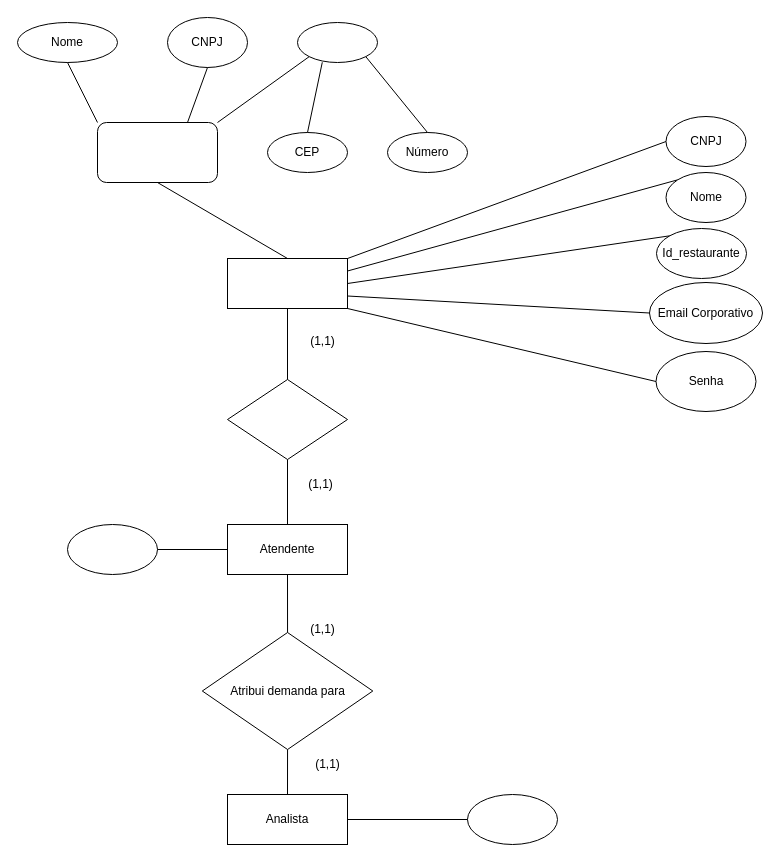
Image size: 780x862. Some labels were removed from this diagram. The shapes that lost their labels are listed below. From the top down, each one's centre as x and y in pixels, then its label:
(x=337, y=42): Endereço
(x=157, y=152): Fornecedor
(x=287, y=283): (Restaurante)
(x=287, y=419): É atentido por
(x=112, y=549): Id_atendente
(x=512, y=819): Id_analisita
